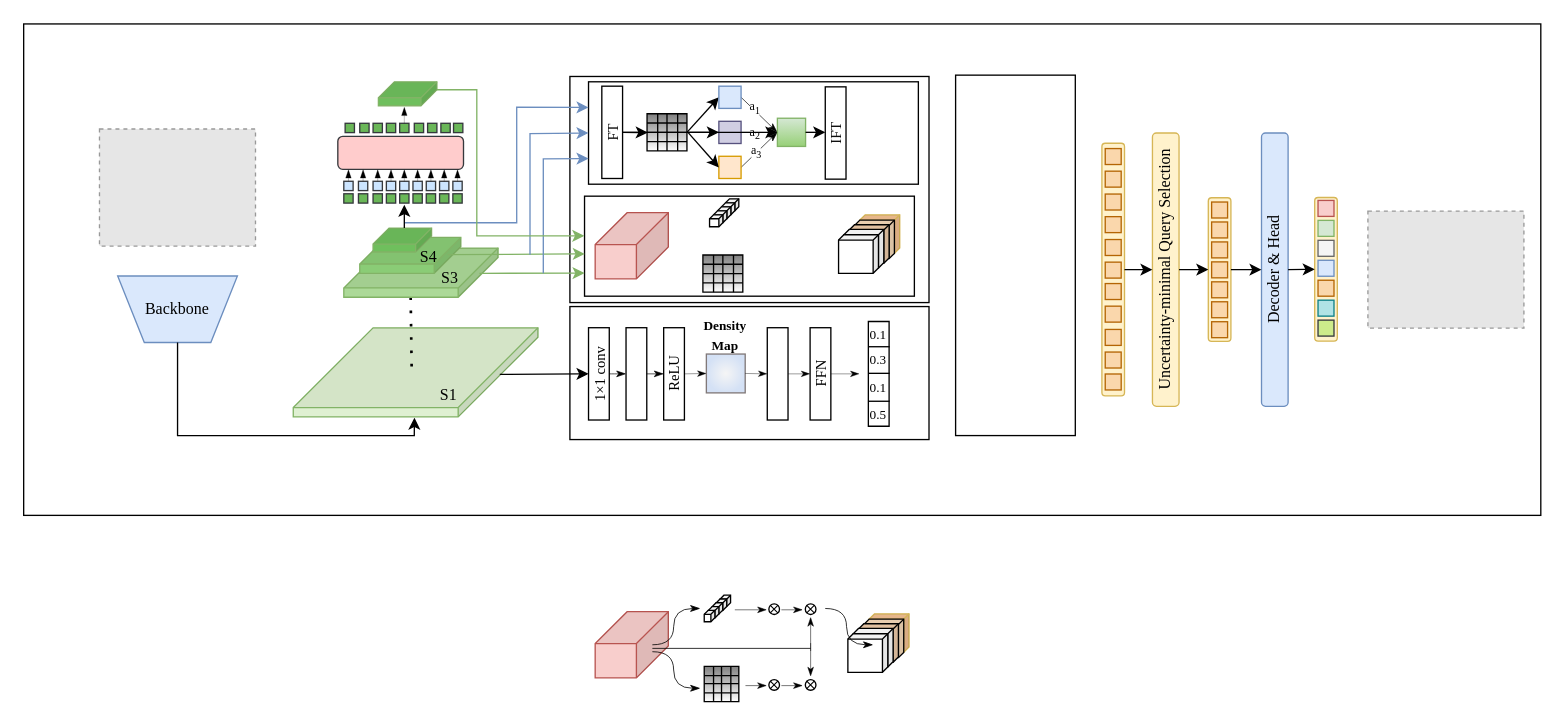
Some shapes in this 1564 by 725 pixel diagram are drawn without their labels. Grey dashed boxes stand in for pictures. Here are the shapes that lost their labels. From the top down, the box of each, then its label:
(377, 80, 437, 106): F5
(336, 135, 464, 169): AIFI
(372, 227, 432, 252): S5
(625, 326, 647, 420): dilated conv
(766, 326, 788, 420): Avg Pooling
